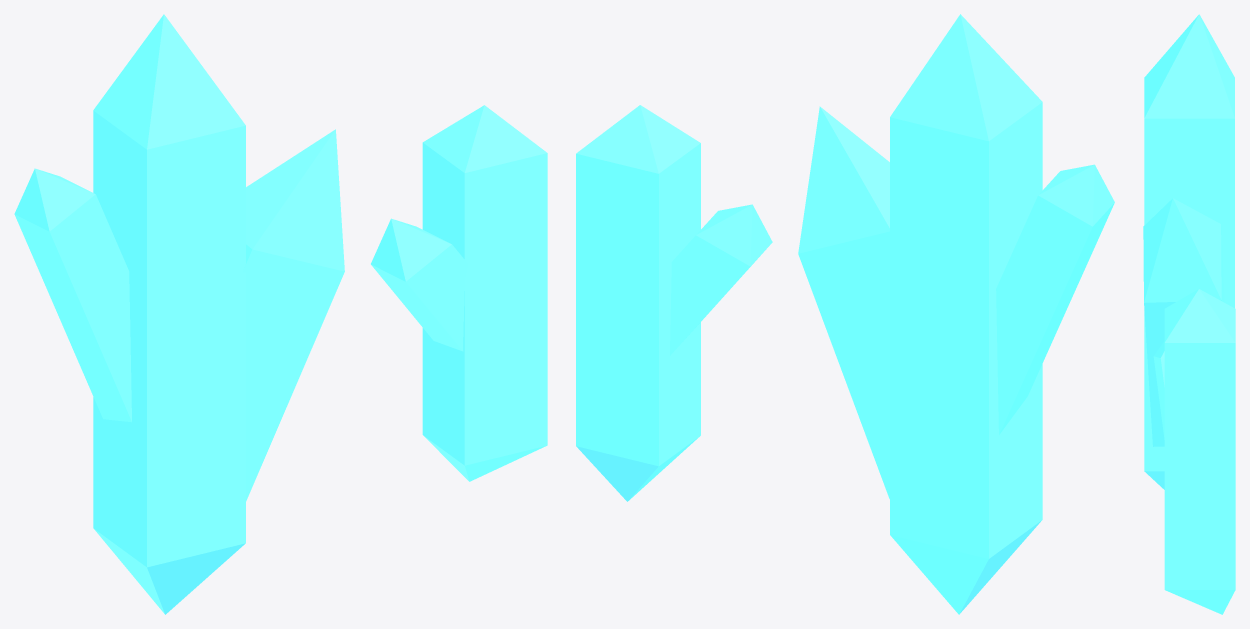
Rendered from Crystals.fbx.
3 views of the same model, side by side, from view 1: azimuth 30°, elevation 25°; view 2: azimuth 150°, elevation 25°; view 3: azimuth 270°, elevation 25° (orthographic). The views are drawn at different scales.
Parts seen in each view (by area): view 1: Crystal1, Crystal2; view 2: Crystal1, Crystal2; view 3: Crystal1, Crystal2.
Boxes of the visible parts, box(x1,y1,x2,y2) form: Crystal1: box(14, 14, 344, 614); Crystal2: box(371, 105, 547, 481); Crystal1: box(798, 14, 1114, 614); Crystal2: box(576, 105, 772, 501); Crystal1: box(1143, 14, 1234, 489); Crystal2: box(1153, 289, 1235, 614).
Bounding box in the file's own units: 30.25 × 34.5 × 5.68.
